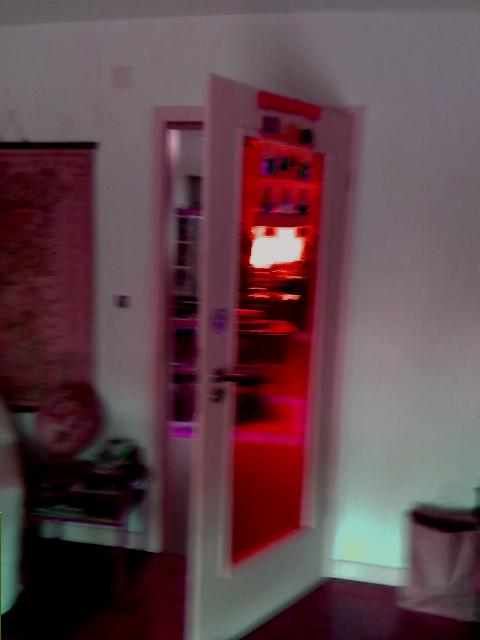semi_door: (146, 70, 362, 639)
